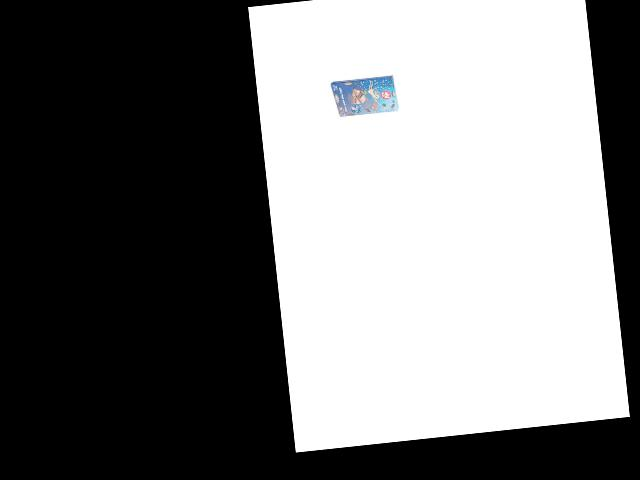chocolate: (329, 70, 400, 122)
